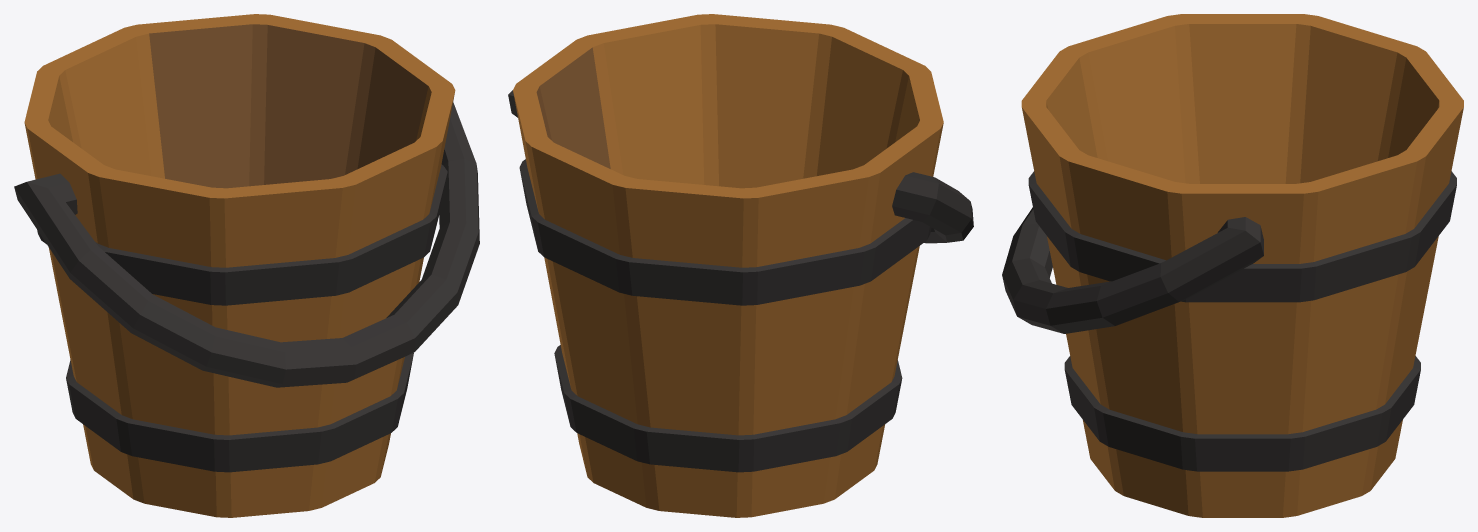
The model's file is balde.fbx.
3 renders of one model, left to right at view 1: azimuth 30°, elevation 25°; view 2: azimuth 150°, elevation 25°; view 3: azimuth 270°, elevation 25°, orthographic.
Visible parts, largest first — view 1: BALDE.002; view 2: BALDE.002; view 3: BALDE.002.
Part boxes in pixels (x1,y1,x2,y2): BALDE.002: (14, 14, 479, 517); BALDE.002: (508, 14, 973, 517); BALDE.002: (1002, 14, 1463, 517).
Bounding box in the file's own units: 67.41 × 52.3 × 62.23.
